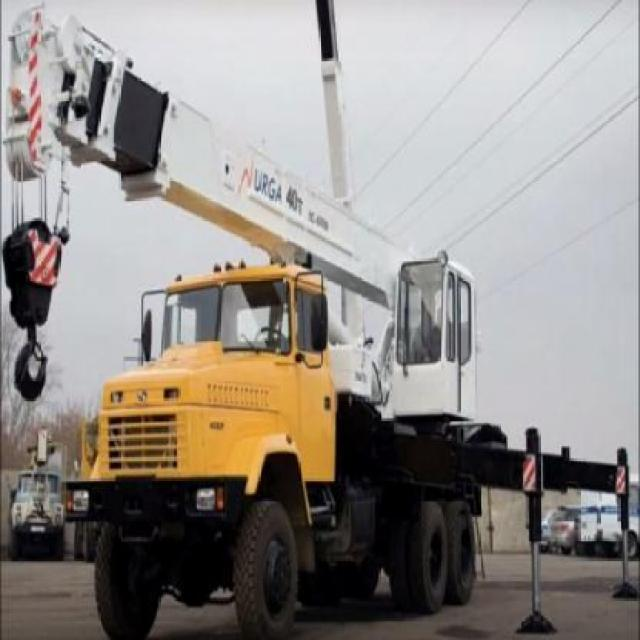Mobile Crane: (3, 14, 631, 638)
